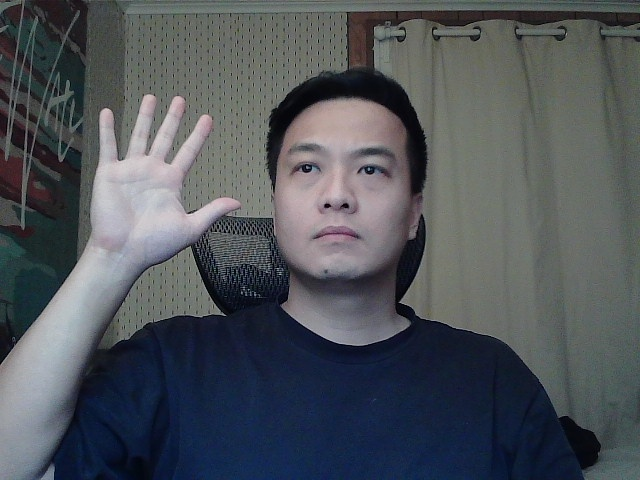Hello: (83, 82, 249, 280)
